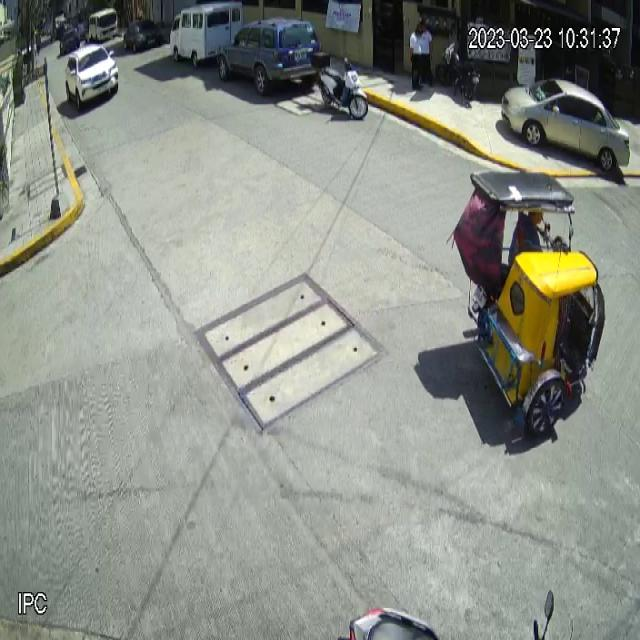Car: (501, 77, 631, 172), (216, 16, 323, 96), (65, 43, 119, 111)
Motorcycle: (311, 51, 369, 120)
Tricycle: (468, 170, 606, 442)
Van: (170, 1, 243, 68)
